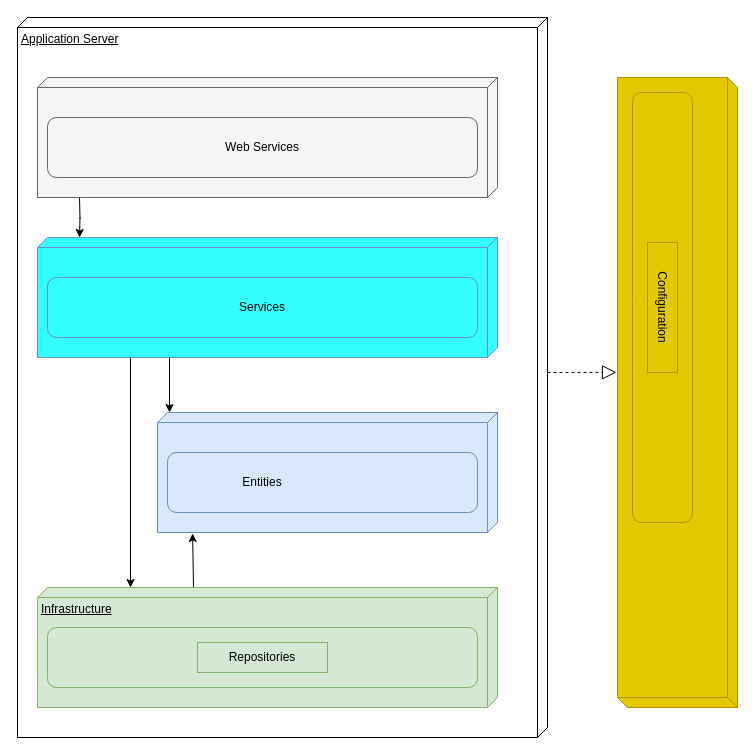
The diagram is 755 pixels wide and 755 high, and some of its shapes have lost their labels. The box of each missing label's shape, as (x1, y1, x2, y2) in pixels:
Application: (36, 236, 498, 358)
CrossCutting: (616, 76, 738, 708)
Distributed Web Services: (36, 76, 498, 198)
Domain: (156, 412, 498, 532)
